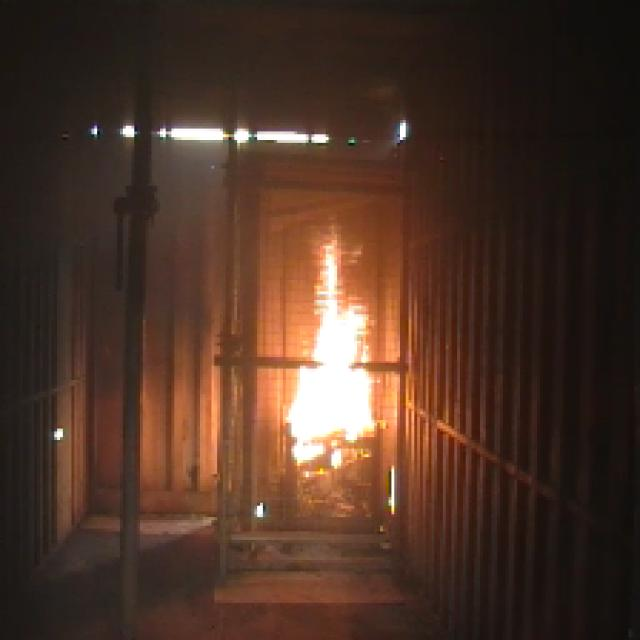fire: (296, 248, 380, 460)
